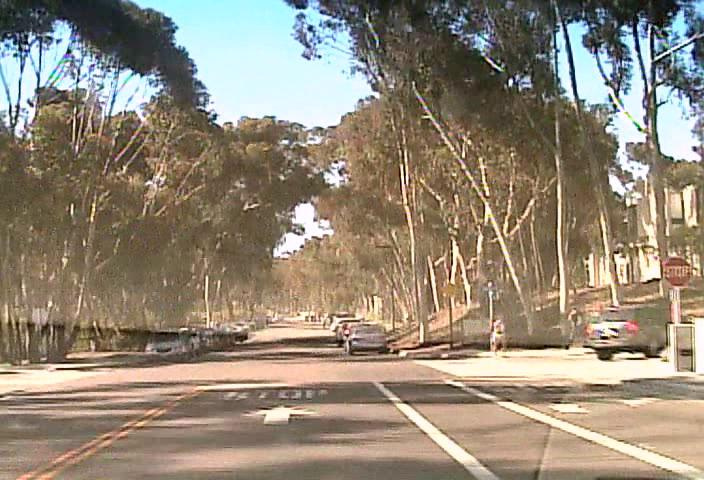stop: (662, 256, 692, 287)
